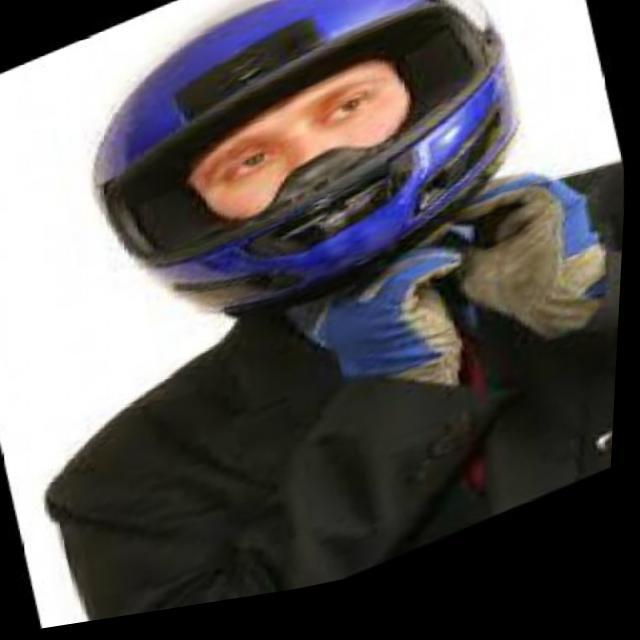Helmet: (82, 0, 533, 331)
